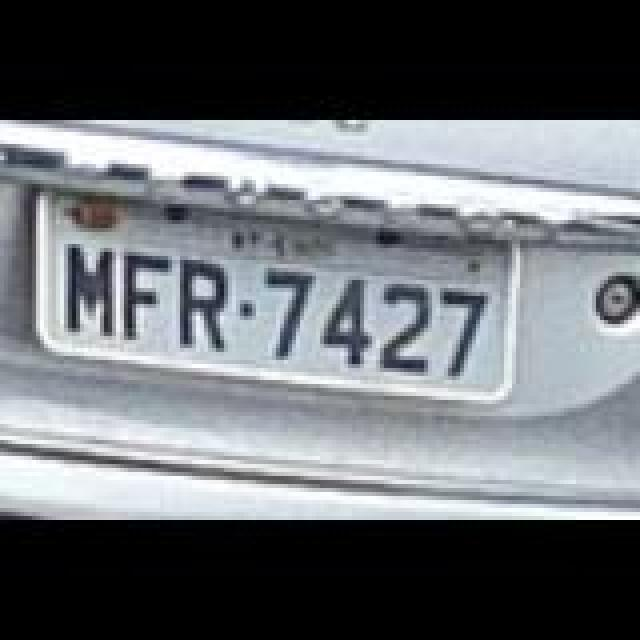2: (370, 282, 446, 374)
4: (318, 278, 386, 370)
7: (430, 284, 506, 380), (252, 266, 324, 358)
F: (114, 248, 182, 344)
M: (54, 242, 130, 342)
R: (168, 256, 240, 352)
